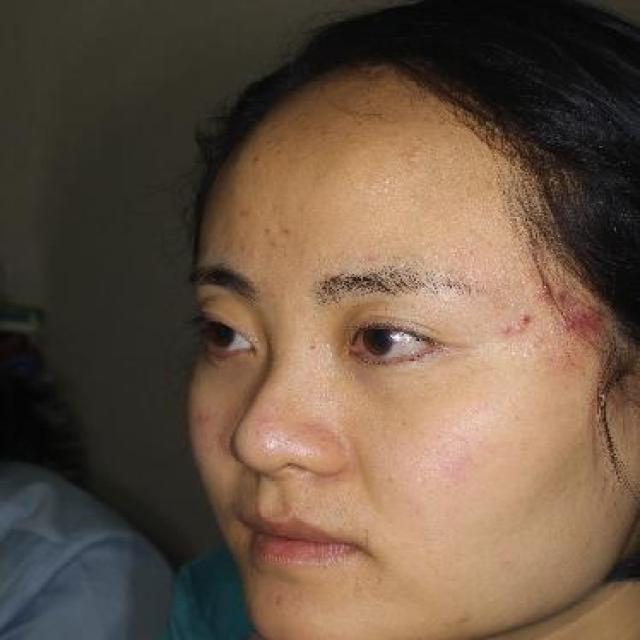nodules: (497, 323, 514, 339), (517, 311, 537, 322), (517, 325, 529, 336)
